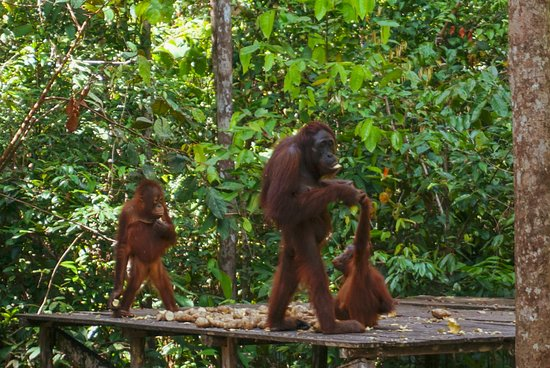Orangutan: (248, 122, 347, 332), (116, 177, 183, 308), (328, 223, 390, 328)
